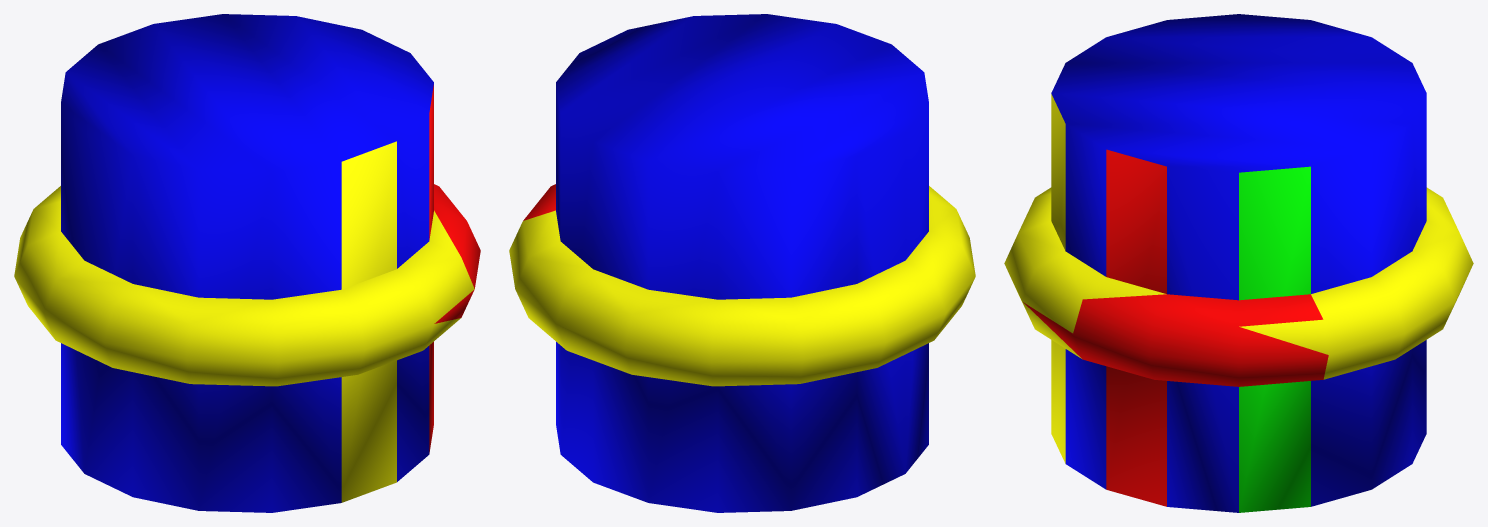
The model's file is ringAndTube.obj.
The picture shows the model from 3 angles, left to right: view 1: azimuth 30°, elevation 25°; view 2: azimuth 150°, elevation 25°; view 3: azimuth 270°, elevation 25°; orthographic projection.
Visible parts, largest first — view 1: Cylinder5, Torus5; view 2: Cylinder5, Torus5; view 3: Cylinder5, Torus5.
Boxes of the visible parts, x1,y1,x2,y2 form: Cylinder5: (61, 14, 433, 512); Torus5: (14, 184, 480, 386); Cylinder5: (556, 14, 928, 512); Torus5: (509, 184, 975, 386); Cylinder5: (1051, 14, 1426, 512); Torus5: (1004, 187, 1473, 386).
Size of the model in its own units: 2.5 by 2 by 2.5.
